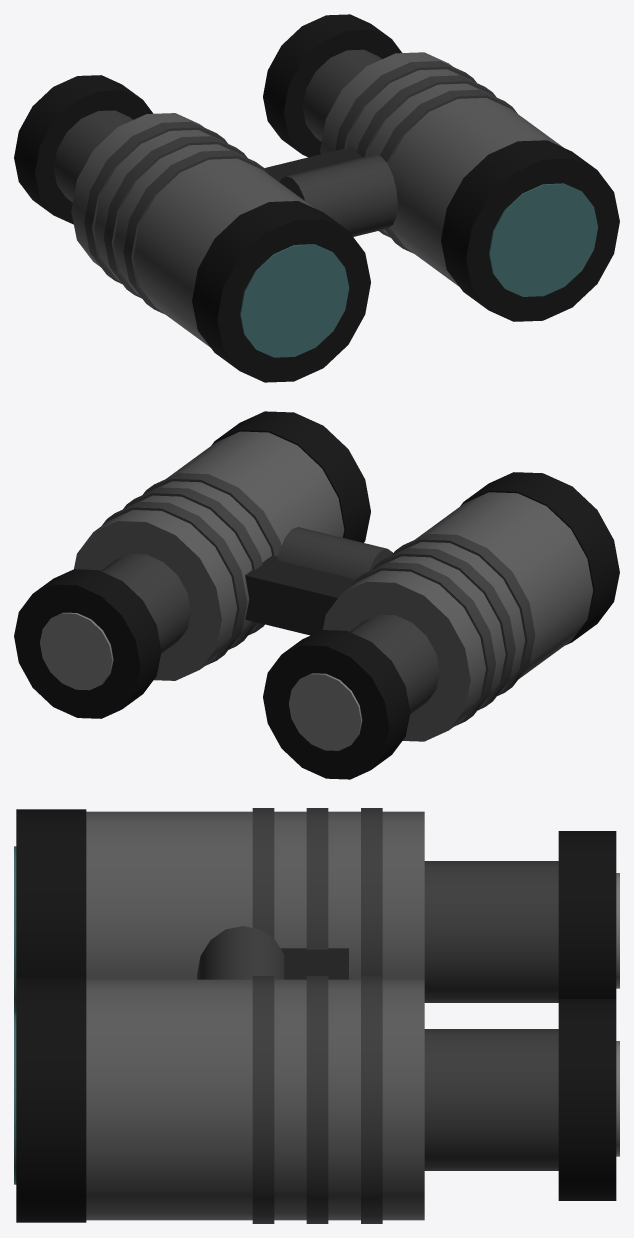
Rendered from CMU3DUtilityRMCBinocularsCivCloud.glb.
The picture shows the model from 3 angles, top to bottom: view 1: azimuth 30°, elevation 25°; view 2: azimuth 150°, elevation 25°; view 3: azimuth 270°, elevation 25°; orthographic projection. The views are drawn at different scales.
Parts seen in each view (by area): view 1: objective barrel -0.165, objective barrel 0.165, objective outer hood -0.165, objective outer hood 0.165, objective recessed blue lens -0.165, objective recessed blue lens 0.165, eyecup thick ring -0.165, eyecup thick ring 0.165, focus wheel, eyepiece barrel -0.165, eyepiece barrel 0.165, barrel grip ridge -0.165 -0.14 (+6 smaller); view 2: objective barrel -0.165, objective barrel 0.165, eyecup thick ring -0.165, eyecup thick ring 0.165, objective outer hood -0.165, center hinge bridge, objective outer hood 0.165, eyepiece inset glass -0.165, eyepiece inset glass 0.165, eyepiece barrel -0.165, eyepiece barrel 0.165, focus wheel (+6 smaller); view 3: objective barrel 0.165, objective barrel -0.165, eyepiece barrel -0.165, eyepiece barrel 0.165, objective outer hood 0.165, objective outer hood -0.165, eyecup thick ring 0.165, eyecup thick ring -0.165, barrel grip ridge 0.165 -0.095, barrel grip ridge 0.165 -0.14, barrel grip ridge 0.165 -0.05, focus wheel (+4 smaller).
Part boxes in pixels (x1,y1,x2,y2): objective barrel -0.165: (71, 113, 314, 347); objective barrel 0.165: (320, 52, 563, 286); objective outer hood -0.165: (192, 201, 370, 382); objective outer hood 0.165: (441, 140, 619, 321); objective recessed blue lens -0.165: (240, 244, 349, 357); objective recessed blue lens 0.165: (489, 183, 598, 296); eyecup thick ring -0.165: (14, 75, 152, 224); eyecup thick ring 0.165: (263, 14, 401, 157); focus wheel: (279, 154, 397, 236); eyepiece barrel -0.165: (53, 110, 133, 202); eyepiece barrel 0.165: (302, 49, 382, 141); barrel grip ridge -0.165 -0.14: (123, 150, 268, 313); objective barrel -0.165: (322, 492, 593, 741); objective barrel 0.165: (74, 431, 344, 680); eyecup thick ring -0.165: (263, 630, 410, 779); eyecup thick ring 0.165: (14, 569, 161, 718); objective outer hood -0.165: (460, 472, 619, 645); center hinge bridge: (245, 555, 355, 635); objective outer hood 0.165: (211, 411, 370, 542); eyepiece inset glass -0.165: (288, 673, 362, 750); eyepiece inset glass 0.165: (40, 612, 113, 690); eyepiece barrel -0.165: (349, 614, 439, 714); eyepiece barrel 0.165: (101, 554, 190, 653); focus wheel: (277, 527, 392, 579); objective barrel 0.165: (86, 979, 424, 1220); objective barrel -0.165: (86, 811, 424, 979); eyepiece barrel -0.165: (424, 861, 558, 1002); eyepiece barrel 0.165: (424, 1029, 558, 1170); objective outer hood 0.165: (16, 977, 86, 1222); objective outer hood -0.165: (16, 809, 86, 977); eyecup thick ring 0.165: (558, 999, 616, 1200); eyecup thick ring -0.165: (558, 831, 616, 998); barrel grip ridge 0.165 -0.095: (306, 976, 328, 1223); barrel grip ridge 0.165 -0.14: (252, 976, 274, 1223); barrel grip ridge 0.165 -0.05: (361, 976, 382, 1223); focus wheel: (197, 926, 284, 979).
Size of the model in its own units: 0.536 by 0.206 by 0.503.
